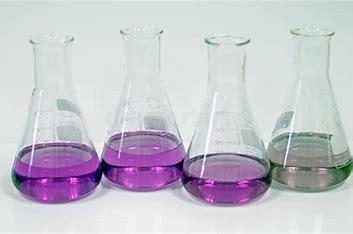Titrarion: (15, 24, 101, 210), (190, 23, 271, 208), (111, 24, 182, 203), (271, 25, 346, 191)
